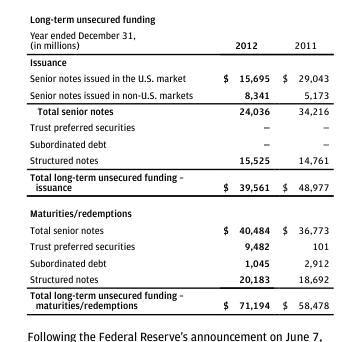table: (29, 28, 328, 310)
table column: (29, 28, 207, 310), (207, 28, 275, 310), (275, 28, 328, 310)
table column header: (29, 28, 328, 52)
table projected row header: (29, 199, 328, 220), (29, 52, 328, 69)
table row: (29, 167, 328, 199), (29, 28, 328, 52), (29, 286, 328, 310), (29, 199, 328, 220), (29, 52, 328, 69), (29, 85, 328, 102), (29, 118, 328, 135), (29, 220, 328, 237), (29, 253, 328, 270), (29, 69, 328, 85), (29, 102, 328, 118), (29, 135, 328, 151), (29, 151, 328, 167), (29, 237, 328, 253), (29, 270, 328, 286)
